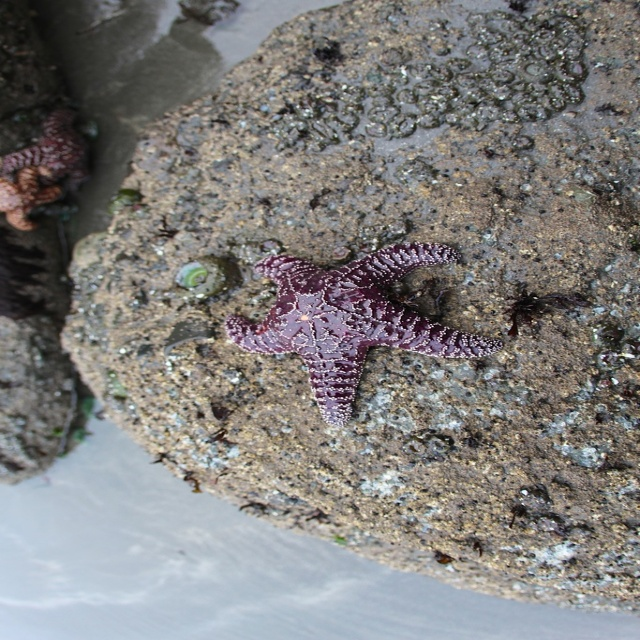Starfish: (225, 241, 504, 429), (0, 105, 93, 189), (0, 166, 69, 233)
